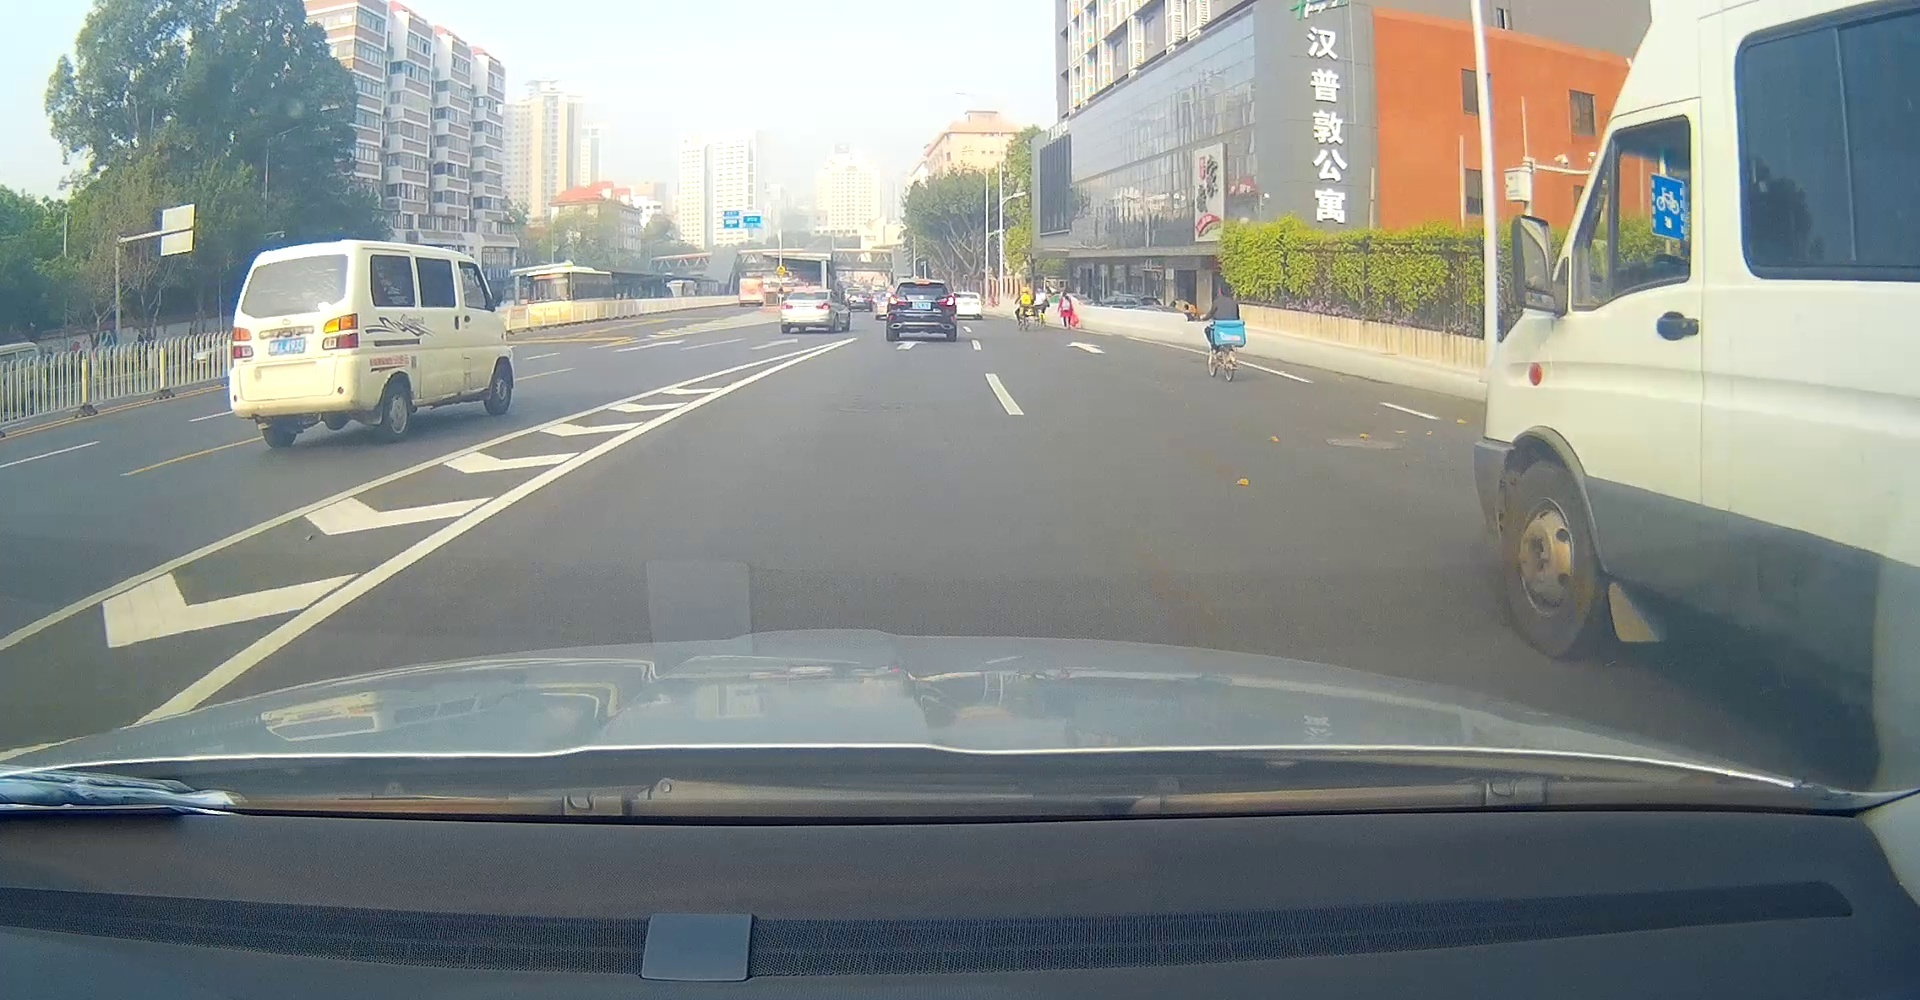L_light: (231, 327, 253, 358), (888, 296, 905, 306), (781, 303, 792, 308)
R_light: (323, 312, 359, 350), (935, 294, 955, 307), (817, 303, 830, 310)
T_light: (292, 254, 317, 258), (914, 280, 930, 286), (805, 291, 814, 294)
day-brake: (886, 279, 956, 341), (781, 288, 833, 335)
day-no: (229, 240, 361, 448)
